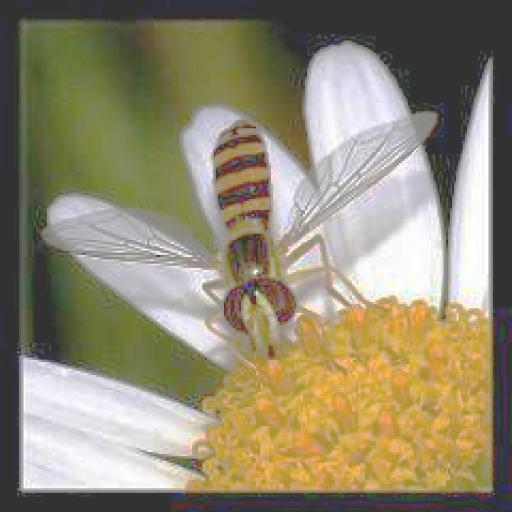daisy: (19, 54, 491, 488)
